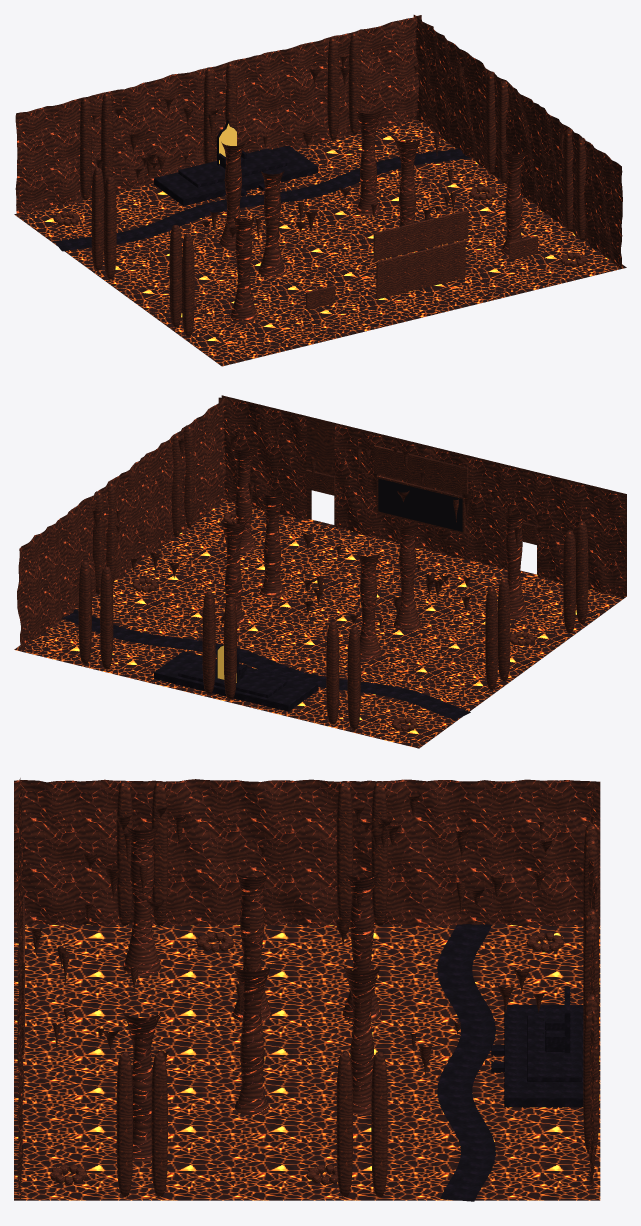
File: tb_hell_p1.glb
The picture shows the model from 3 angles, top to bottom: view 1: azimuth 30°, elevation 25°; view 2: azimuth 150°, elevation 25°; view 3: azimuth 270°, elevation 25°; orthographic projection. The views are drawn at different scales.
Parts seen in each view (by area): view 1: tb_hell_p1; view 2: tb_hell_p1; view 3: tb_hell_p1.
Part boxes in pixels (bbox=[...]): tb_hell_p1: bbox=[14, 15, 626, 366]; tb_hell_p1: bbox=[14, 395, 626, 748]; tb_hell_p1: bbox=[14, 778, 600, 1201].
Size of the model in its own units: 77.8 by 17.48 by 66.9.
6 materials, 4 textured.
